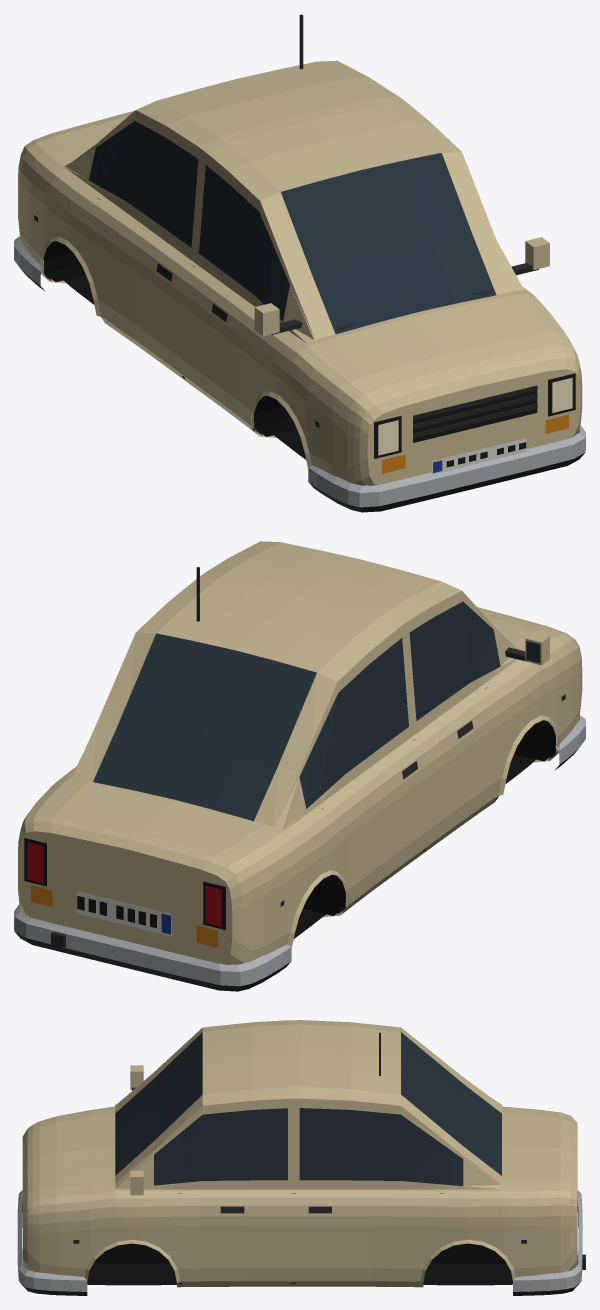
The model's file is alcor-chinche.glb.
3 renders of one model, top to bottom at view 1: azimuth 30°, elevation 25°; view 2: azimuth 150°, elevation 25°; view 3: azimuth 270°, elevation 25°, orthographic. The views are drawn at different scales.
Parts seen in each view (by area): view 1: LOD0, door_RR, door_FR; view 2: LOD0, door_RR, door_FR; view 3: LOD0, door_RL, door_FL.
Part boxes in pixels (x1,y1,x2,y2): LOD0: [14, 14, 585, 512]; door_RR: [85, 110, 199, 373]; door_FR: [181, 153, 274, 426]; LOD0: [14, 541, 585, 991]; door_RR: [312, 626, 426, 906]; door_FR: [408, 591, 499, 846]; LOD0: [17, 1020, 585, 1295]; door_RL: [295, 1098, 441, 1281]; door_FL: [180, 1098, 291, 1281].
Size of what is drawn, in the model's own units: 1.57 by 1.55 by 3.4.
